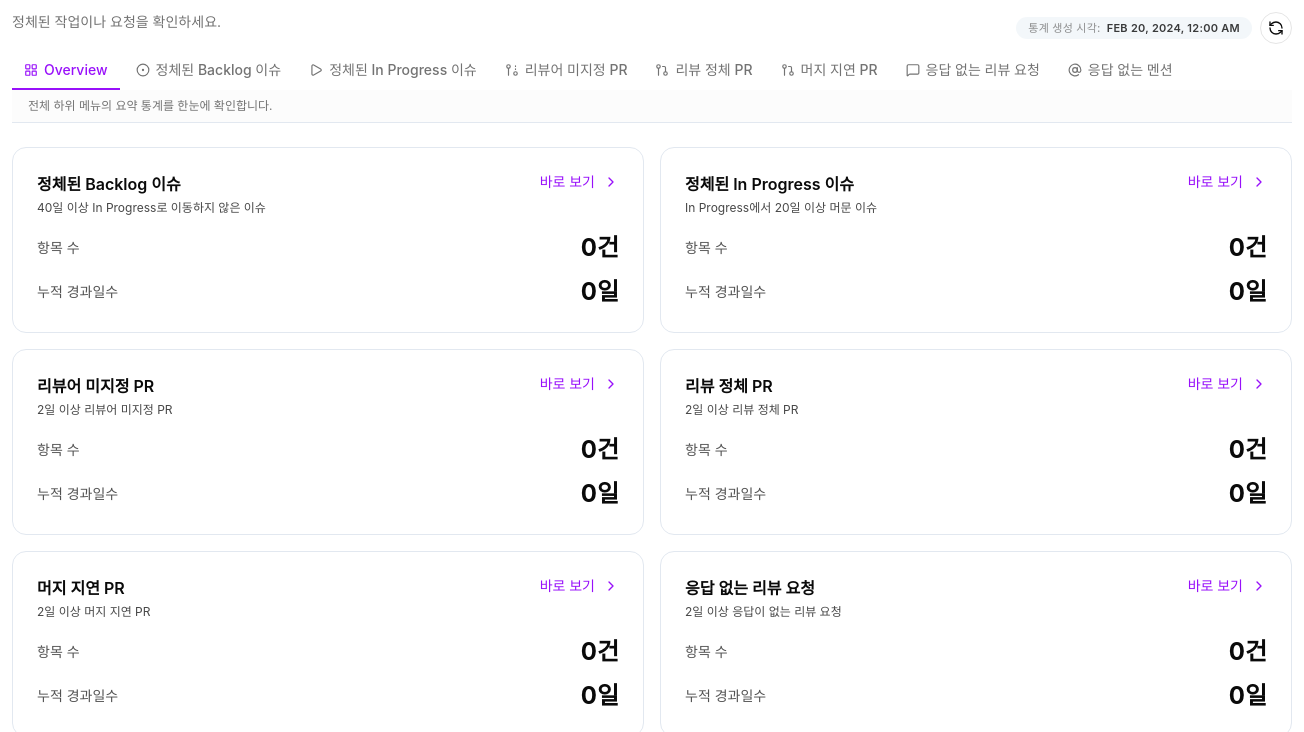
Test: AttentionView stuck review requests › renders empty state messaging when no stuck review requests exist
Check: the 1st text "0건" is shown, box [581,232,619,264]
Check: the 1st text "0일" is shown, box [581,276,619,308]
Click the button "응답 없는 리뷰 요청" at x=973, y=71, box [894,52,1052,90]
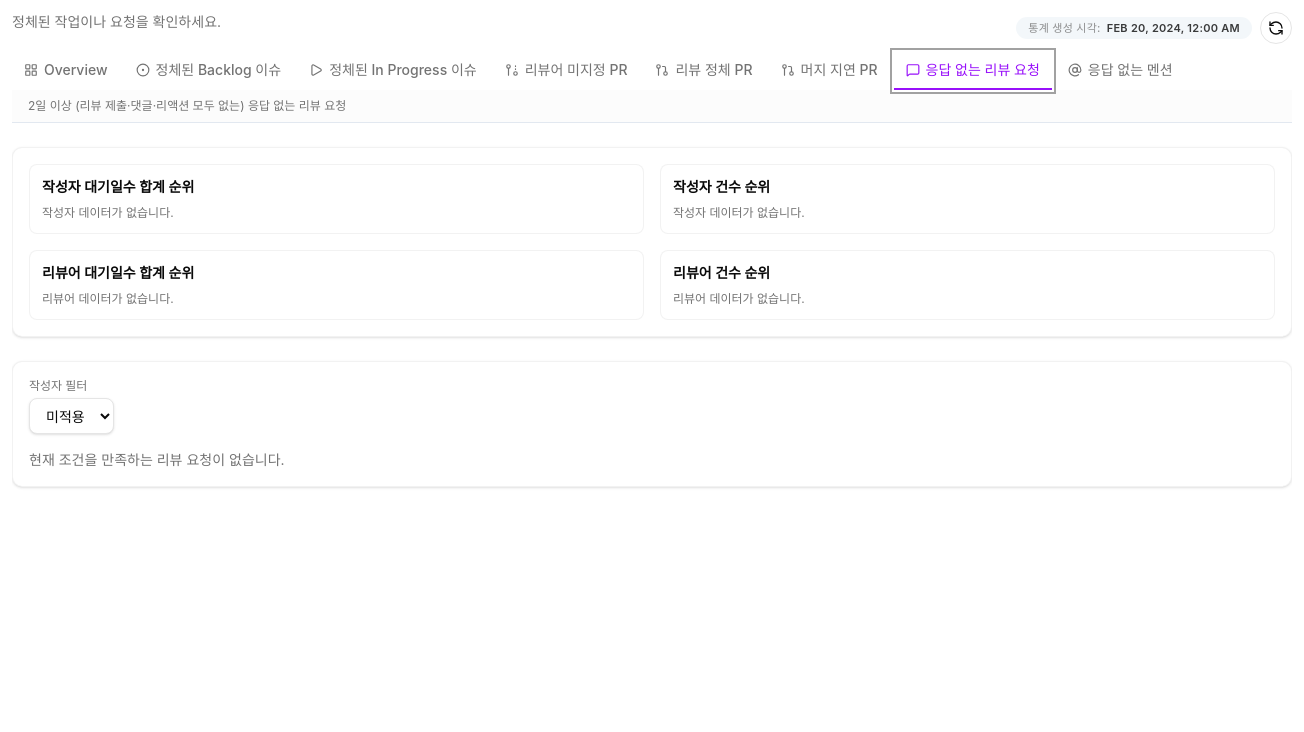
Check: the text "현재 조건을 만족하는 리뷰 요청이 없습니다." is shown, box [29,451,285,468]
Check: the text "작성자 대기일수 합계 순위" is shown, box [42,178,194,195]
Check: the text "작성자 데이터가 없습니다." below "작성자 대기일수 합계 순위" is shown, box [42,205,174,220]
